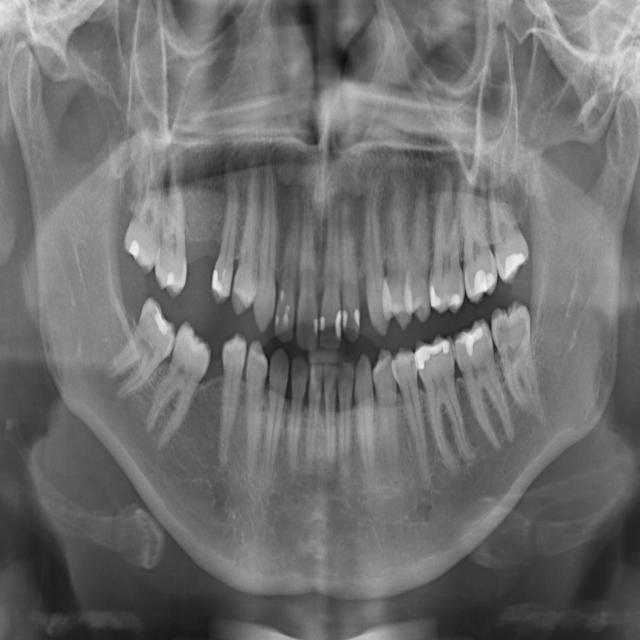3M ESPE Implant: (117, 122, 173, 278)
AGS Medikal Implant: (488, 402, 488, 403)
AMerOss Implant: (403, 328, 489, 485)
Amalgam filling: (151, 139, 205, 300)
Anthogyr Implant: (393, 341, 435, 497)
Bicon Implant: (369, 344, 411, 495)
BioHorizons Implant: (351, 347, 381, 498)
BioLife Implant: (337, 360, 356, 488)
Biomet 3i Implant: (323, 363, 337, 478)
Blue Sky Bio Implant: (304, 362, 323, 478)
Camlog Implant: (277, 355, 310, 479)
Caries: (341, 192, 362, 347)
Composite filling: (252, 344, 292, 499)
Cowellmedi Implant: (234, 337, 271, 488)
Crown: (202, 327, 250, 474)
Dentis Implant: (132, 317, 223, 460)
Dentium Implant: (134, 369, 134, 370)
Euroteknika Implant: (205, 153, 247, 310)
Filling: (229, 149, 272, 320)
Frontier Implant: (250, 134, 287, 338)
Hiossen Implant: (360, 148, 393, 341)
Implant: (295, 185, 320, 356)
Implant Direct: (272, 189, 301, 345)
Keystone Dental Implant: (318, 177, 345, 353)
MIS Implant: (383, 163, 415, 334)
Mandible: (409, 164, 432, 327)
Maxilla: (430, 171, 467, 319)
Megagen Implant: (452, 169, 500, 309)
Neodent Implant: (480, 164, 536, 290)
Neoss Implant: (487, 294, 550, 437)
